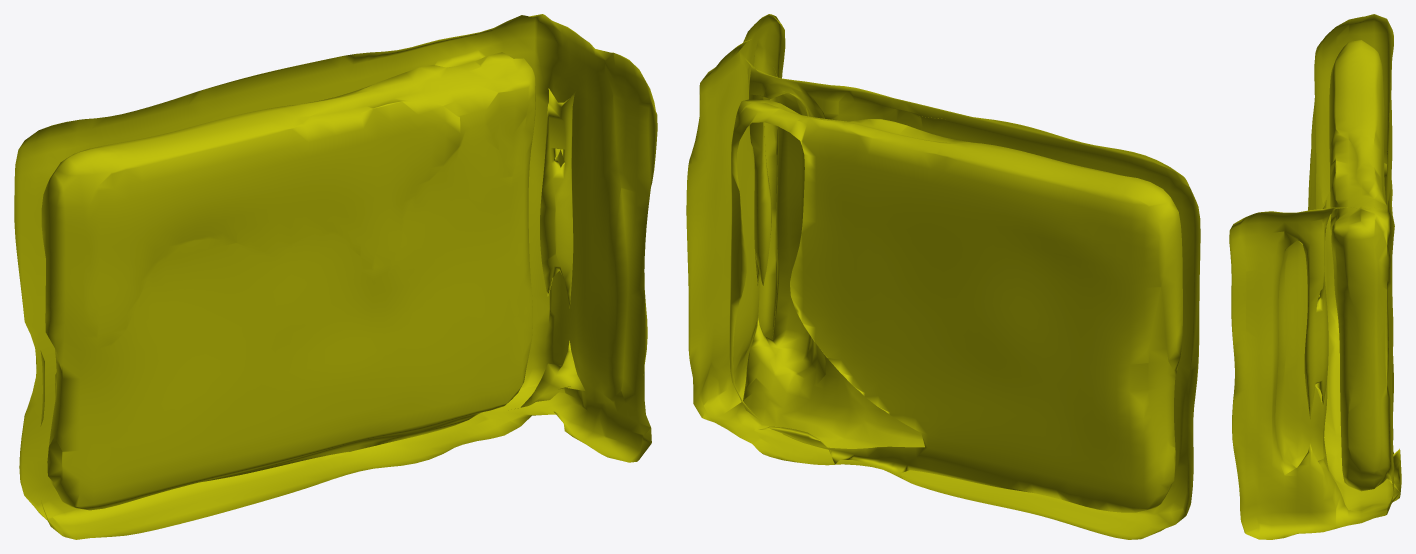
3 renders of one model, left to right at view 1: azimuth 30°, elevation 25°; view 2: azimuth 150°, elevation 25°; view 3: azimuth 270°, elevation 25°, orthographic. The views are drawn at different scales.
Visible parts, largest first — view 1: world; view 2: world; view 3: world.
Boxes of the visible parts, box(x1,y1,x2,y2) form: world: box(14, 14, 657, 539); world: box(686, 14, 1200, 539); world: box(1229, 14, 1401, 539).
Bounding box in the file's own units: 39.96 × 28.05 × 13.44.
